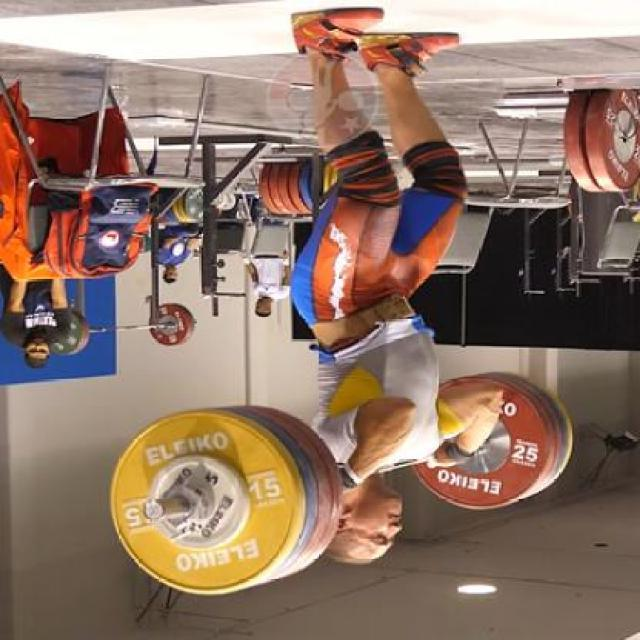Barbell: (136, 494, 170, 526)
